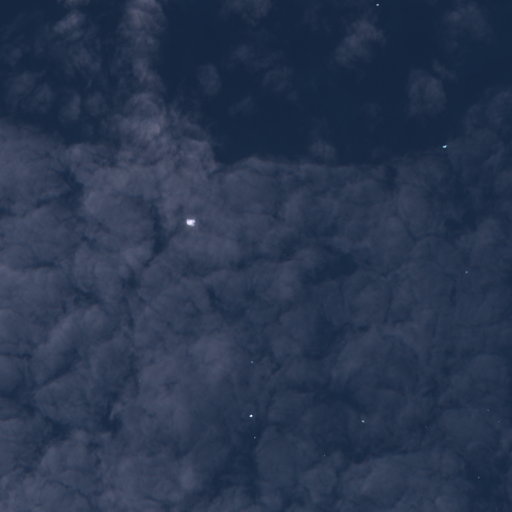Iceberg: (186, 219, 194, 225), (442, 145, 447, 147), (249, 414, 252, 417), (361, 420, 364, 422), (376, 3, 378, 5), (465, 271, 467, 273), (254, 436, 255, 438), (478, 476, 479, 478), (251, 361, 252, 362), (487, 409, 488, 410), (498, 421, 499, 422)
